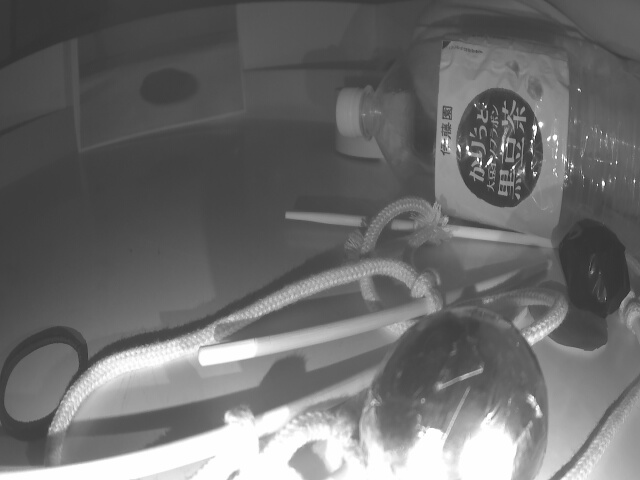Live: (366, 300, 549, 480)
Point: (238, 65, 416, 125), (0, 107, 74, 197)
